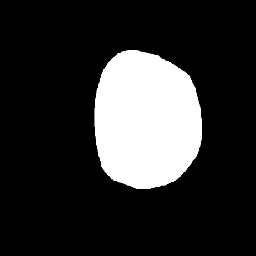mass: (92, 48, 204, 201)
